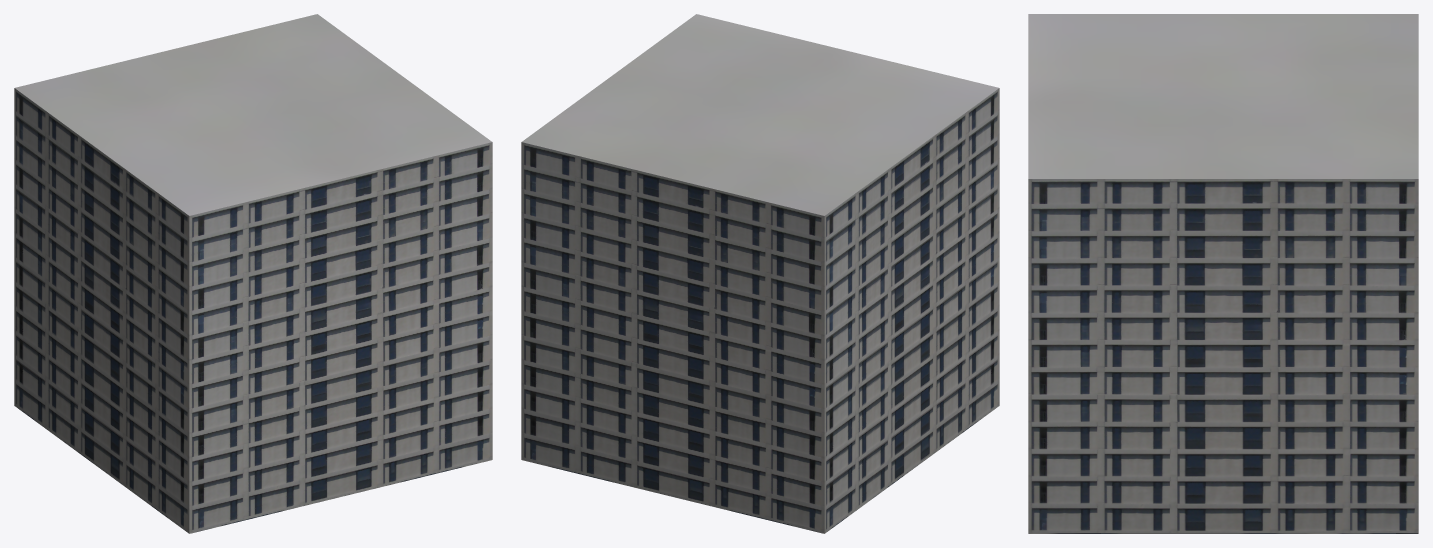
File: 2x2_mbuilding.dae
3 renders of one model, left to right at view 1: azimuth 30°, elevation 25°; view 2: azimuth 150°, elevation 25°; view 3: azimuth 270°, elevation 25°, orthographic. The views are drawn at different scales.
Visible parts, largest first — view 1: pCube1; view 2: pCube1; view 3: pCube1.
Part boxes in pixels (x1=…): pCube1: x1=14, y1=14, x2=492, y2=533; pCube1: x1=521, y1=14, x2=999, y2=533; pCube1: x1=1028, y1=14, x2=1418, y2=533.
Size of the model in its own units: 200 by 200 by 200.
